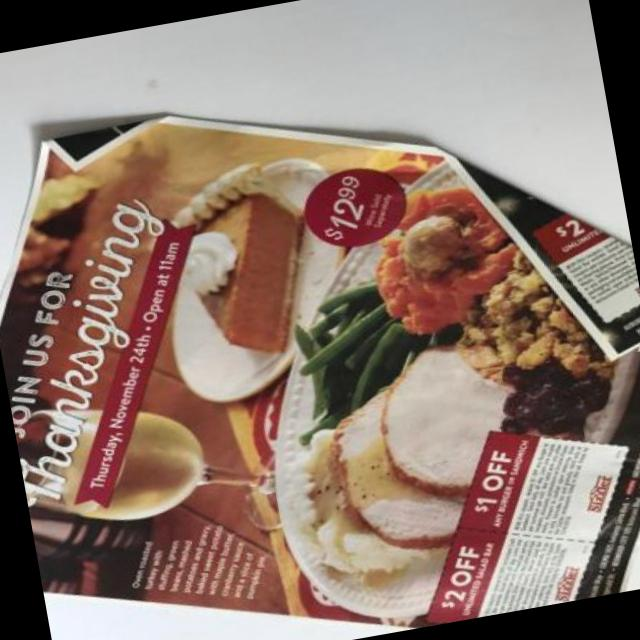cardboard paper: (0, 112, 640, 628)
